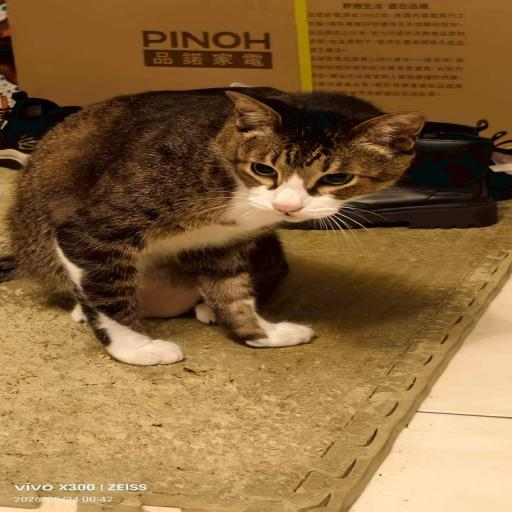cat: (0, 86, 381, 358)
